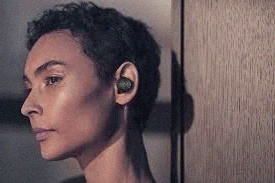earphone: (113, 62, 139, 104)
